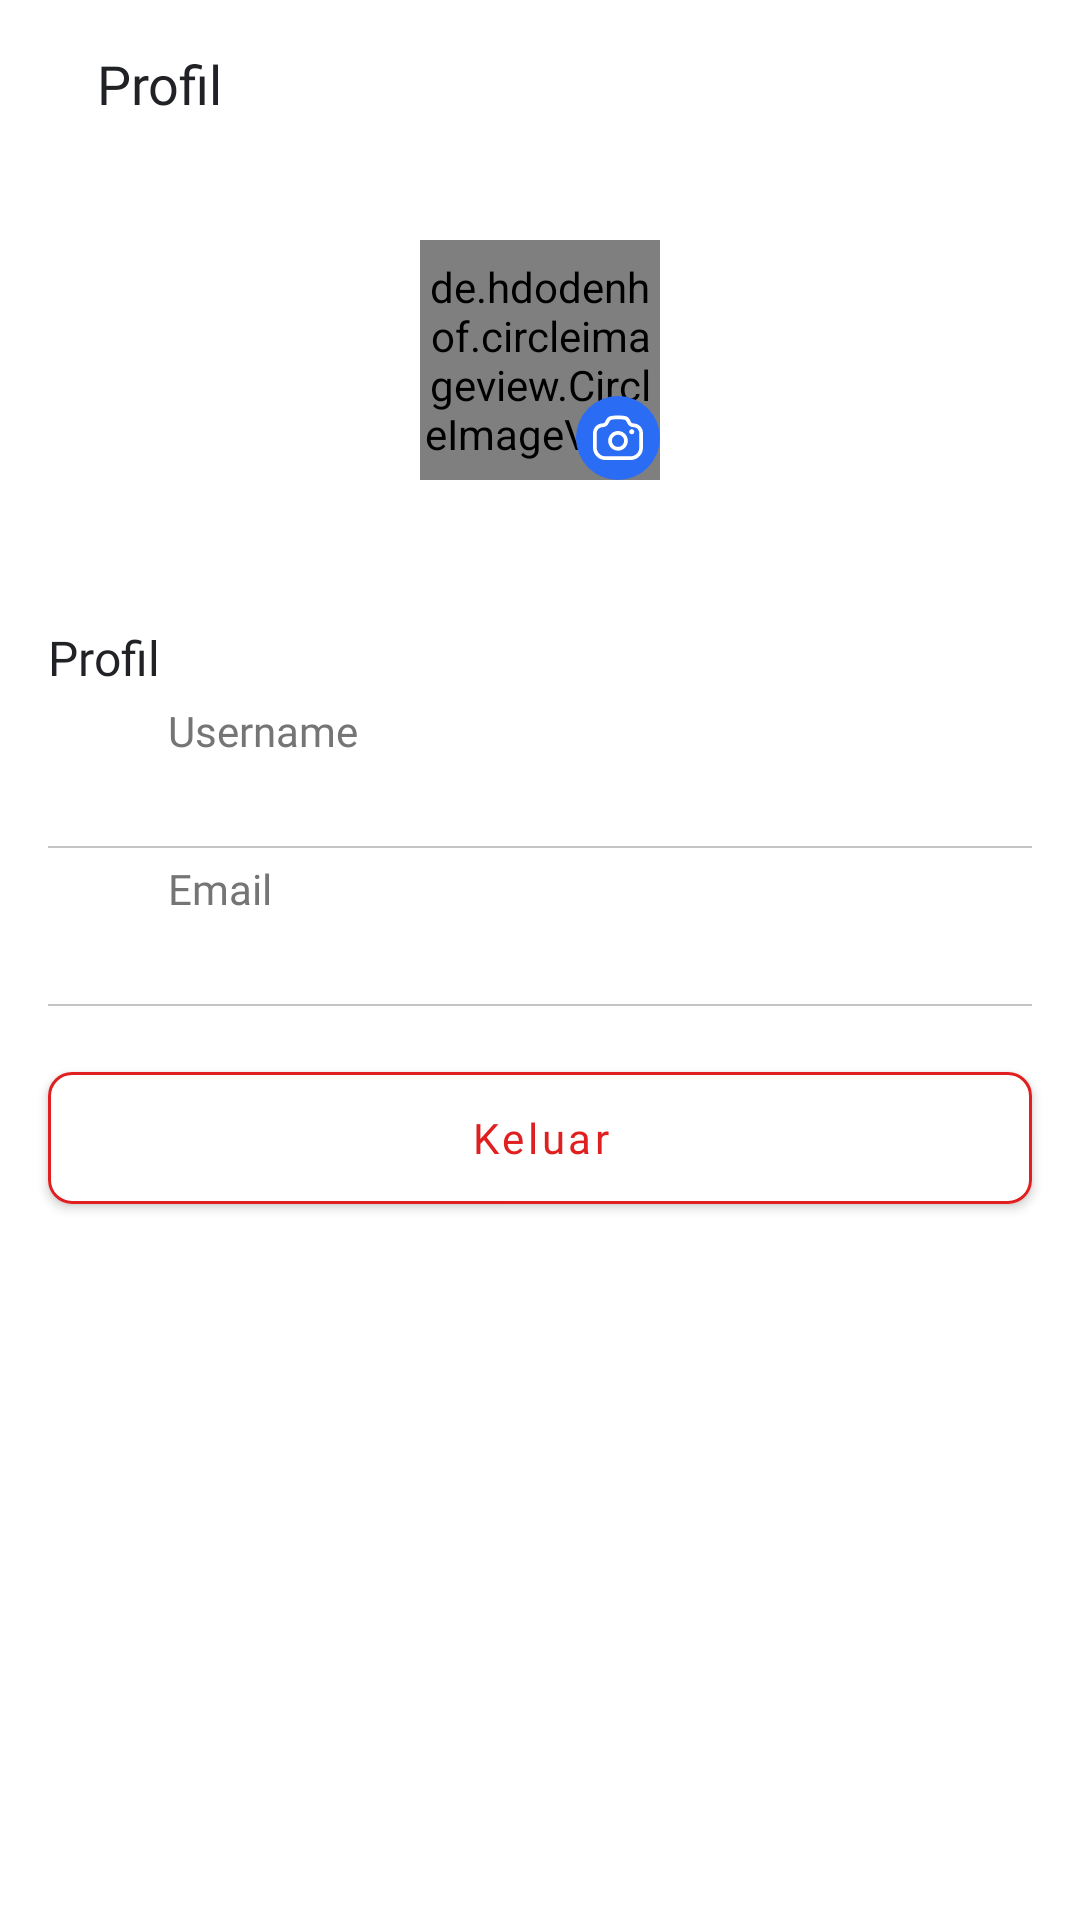

Icon click points for this 1080px×1920px phone screenshot, format (x,y):
camera: (618,438)
